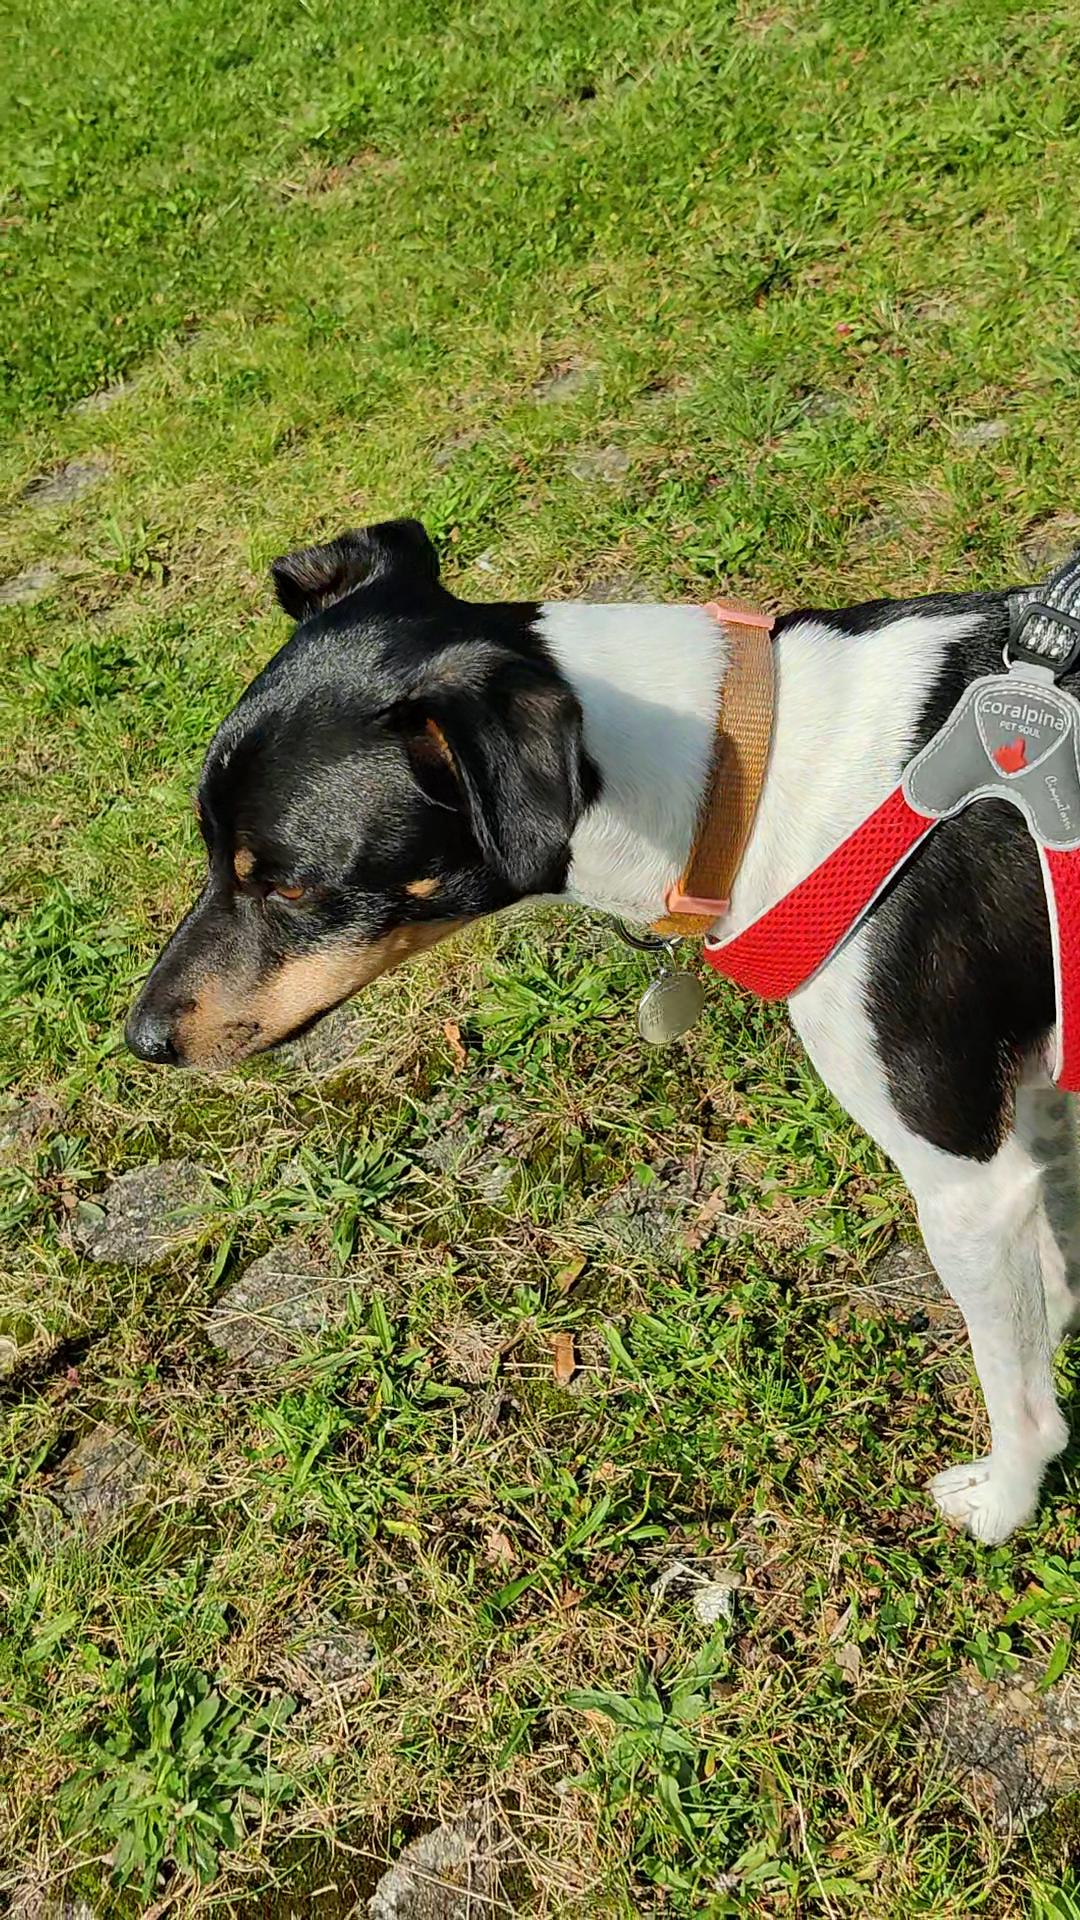Dog: (113, 443, 1079, 1600)
